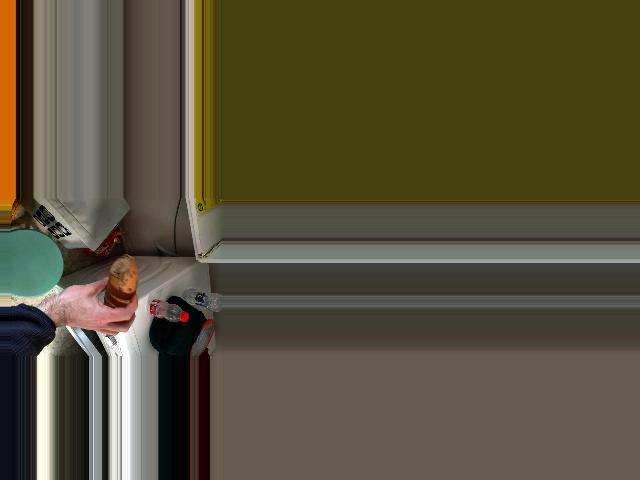sweet_potato: (96, 268, 140, 313)
